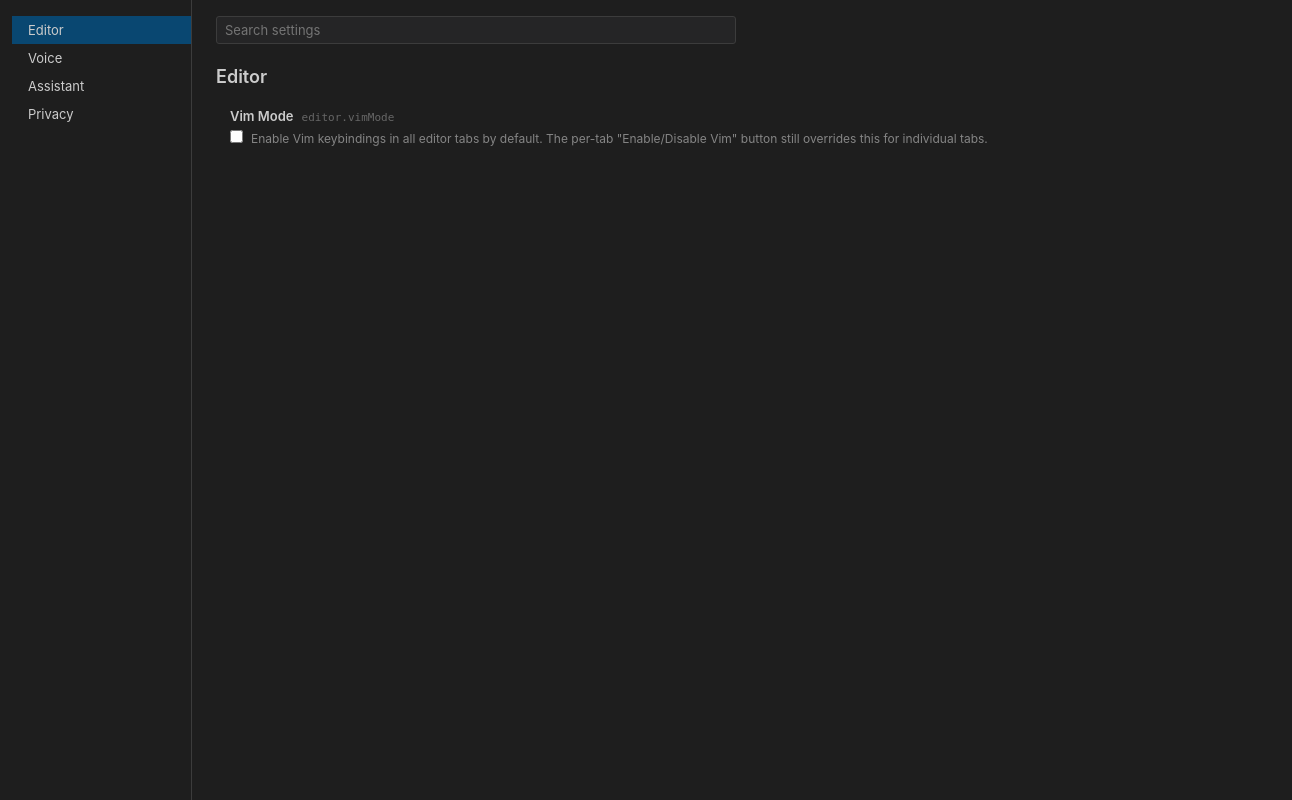
Test case: SettingsPage › filters settings by search query
Type "vim" into the search field with placeholder "Search settings" at (476, 30), box [216,16,736,44]
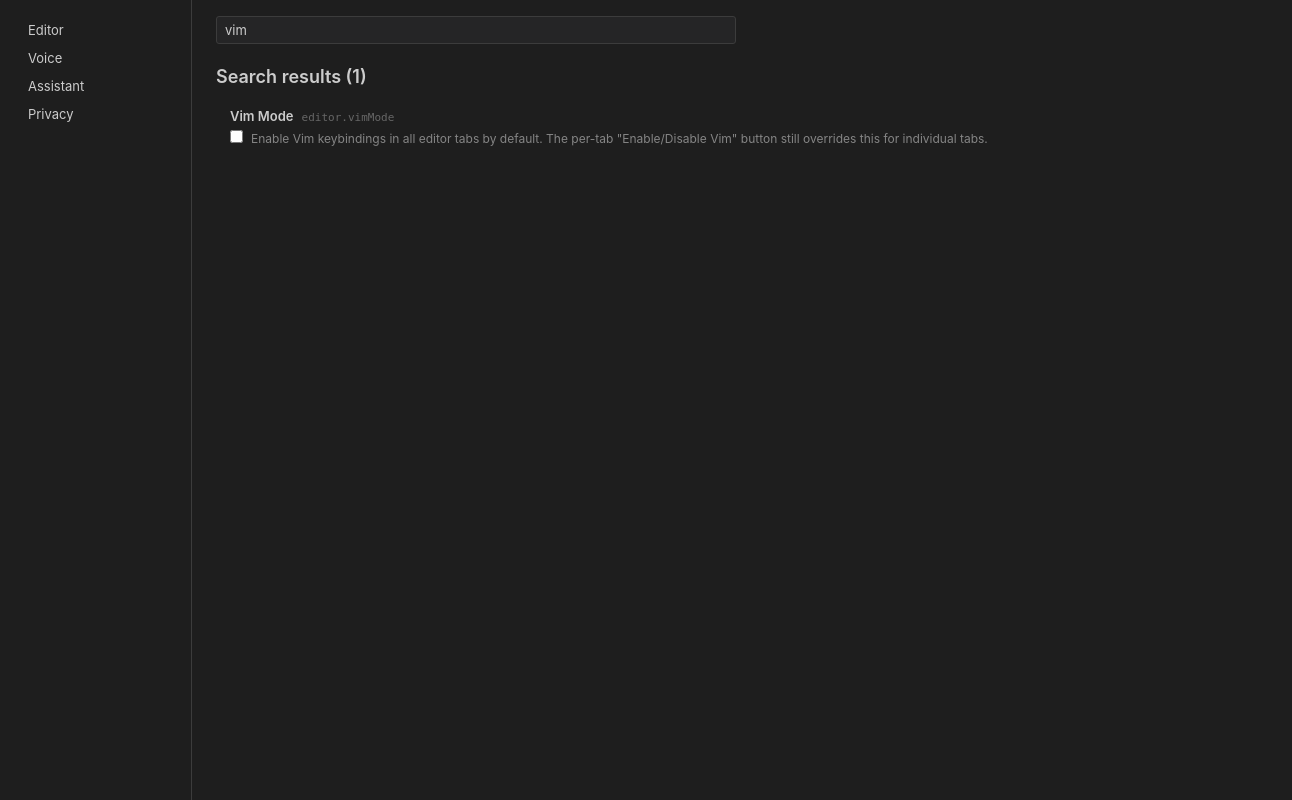
Now the heading "Search results (1)" is shown, box [216,66,367,87]
Replace the text in the search field with placeholder "Search settings" with "zzz-nothing" at (476, 30), box [216,16,736,44]
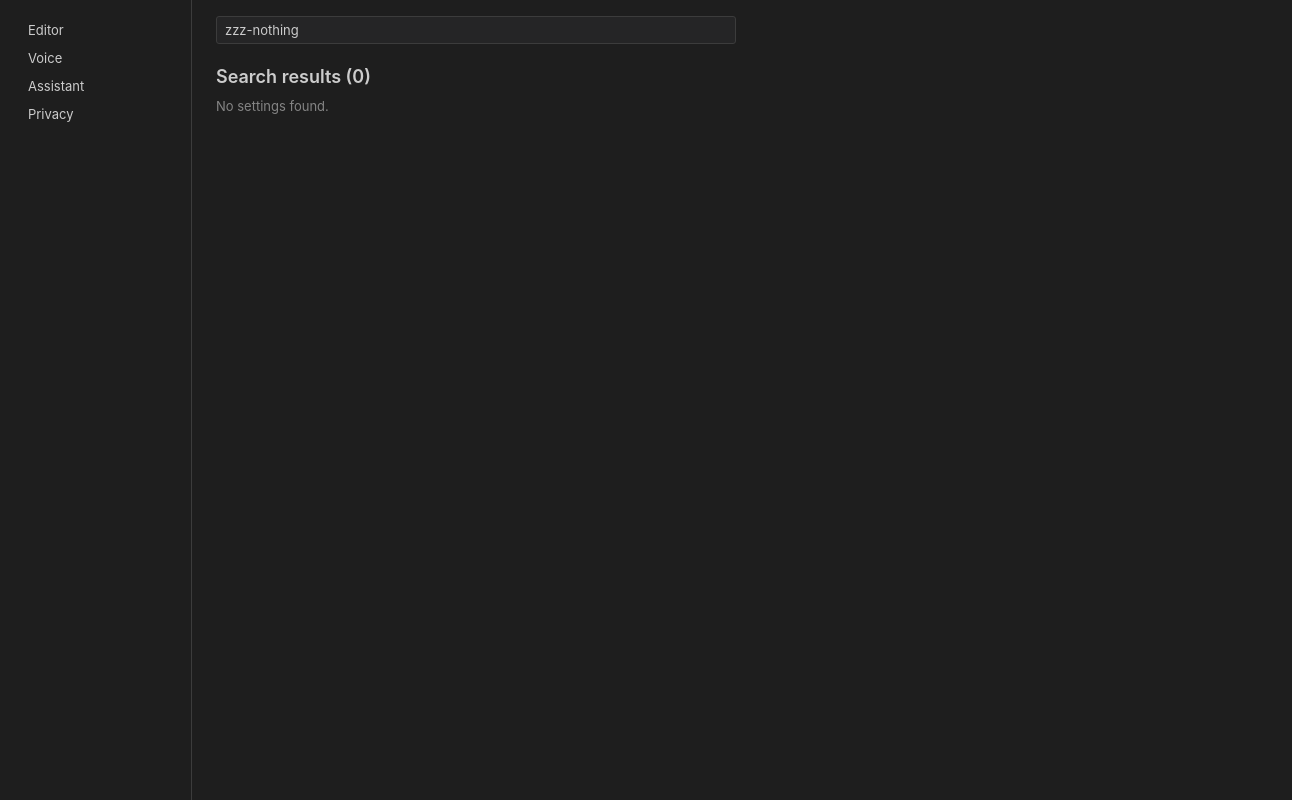
Now the text "No settings found." is shown, box [216,98,329,114]
